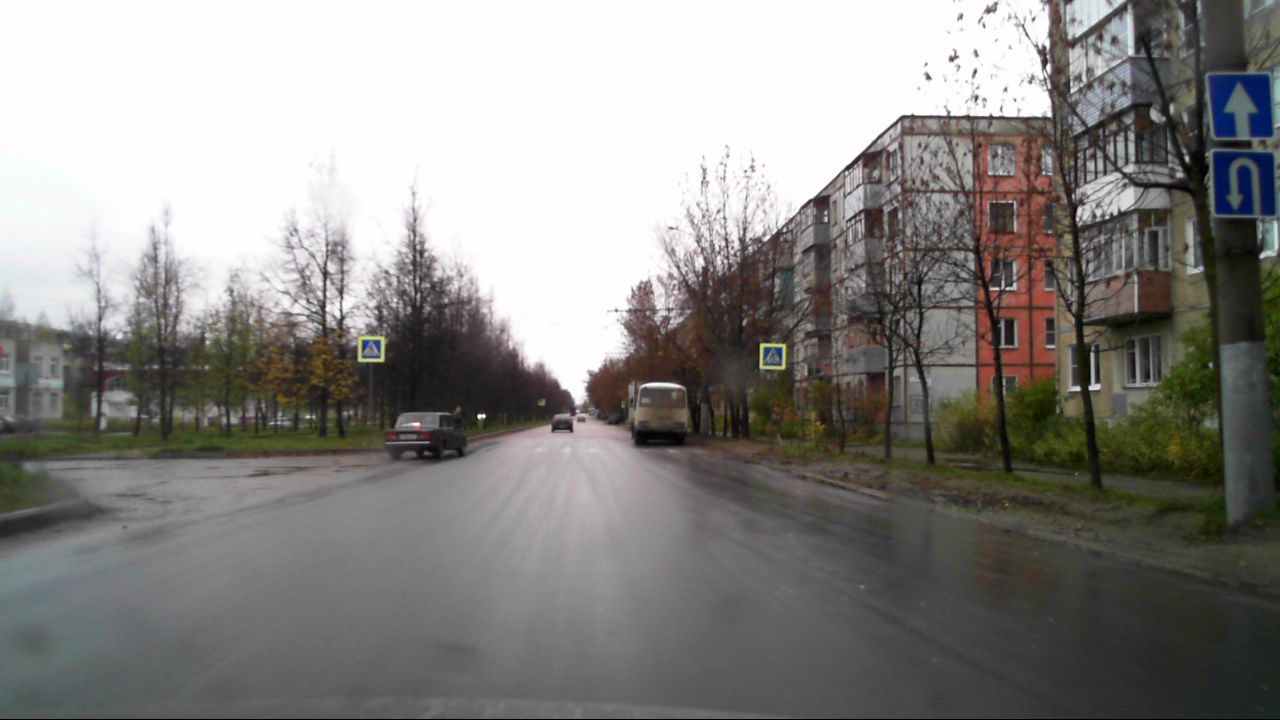U-turn: (1212, 150, 1277, 217)
